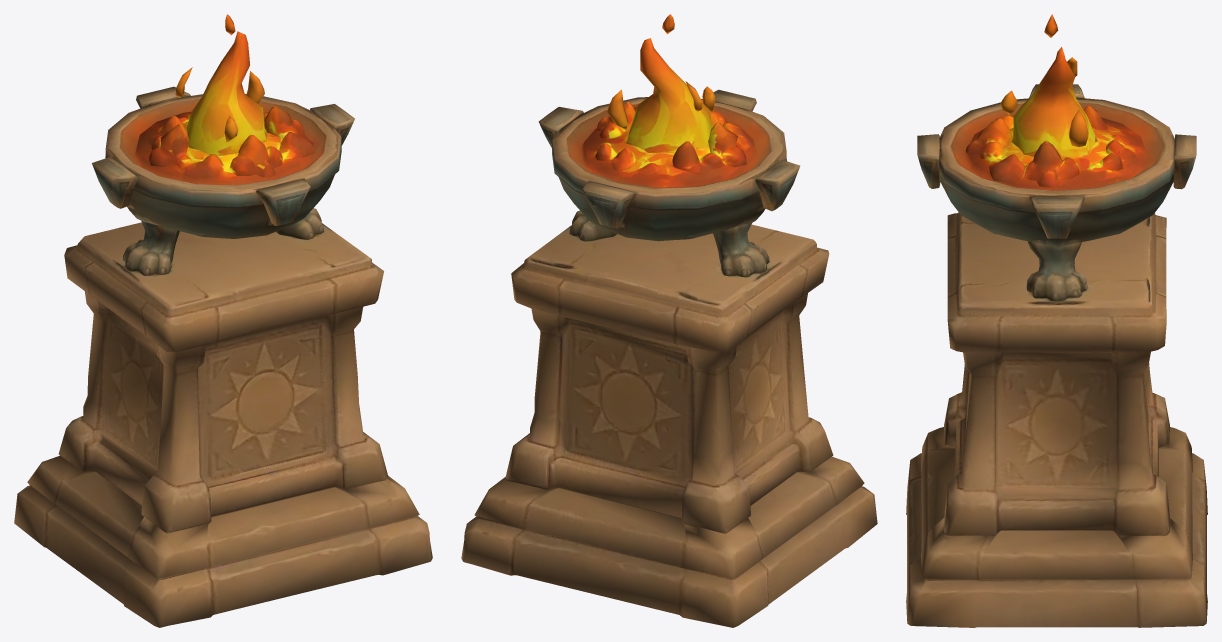
File: SM_Tripo_DesertBrazier.glb
3 renders of one model, left to right at view 1: azimuth 30°, elevation 25°; view 2: azimuth 150°, elevation 25°; view 3: azimuth 270°, elevation 25°, orthographic. The views are drawn at different scales.
Visible parts, largest first — view 1: SM_Tripo_DesertBrazier_LOD0; view 2: SM_Tripo_DesertBrazier_LOD0; view 3: SM_Tripo_DesertBrazier_LOD0.
Part boxes in pixels (bbox=[...]): SM_Tripo_DesertBrazier_LOD0: bbox=[14, 14, 432, 627]; SM_Tripo_DesertBrazier_LOD0: bbox=[461, 14, 877, 627]; SM_Tripo_DesertBrazier_LOD0: bbox=[906, 14, 1207, 627].
Bounding box in the file's own units: 1.32 × 2.4 × 1.2.
1 material, 1 textured.
